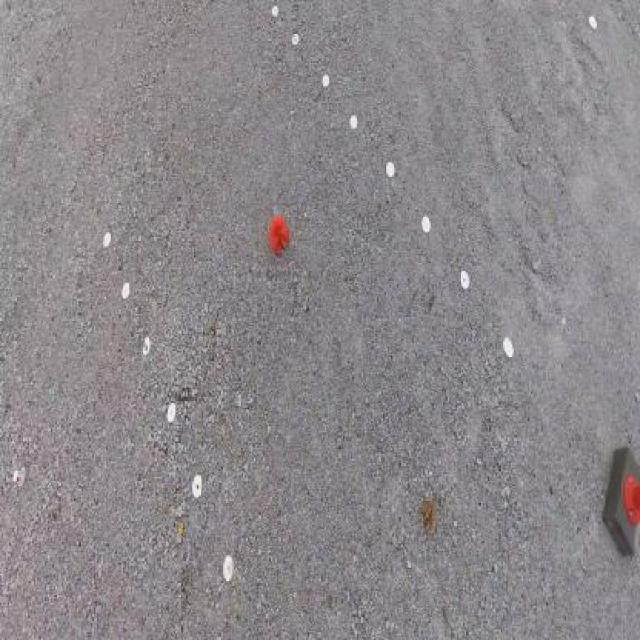Garbage: (267, 215, 291, 256), (420, 498, 436, 535), (12, 466, 25, 487)
